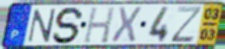4: (147, 5, 171, 44)
H: (82, 6, 117, 44)
N: (26, 8, 58, 43)
S: (51, 6, 86, 45)
X: (110, 6, 144, 45)
Z: (169, 5, 205, 44)
